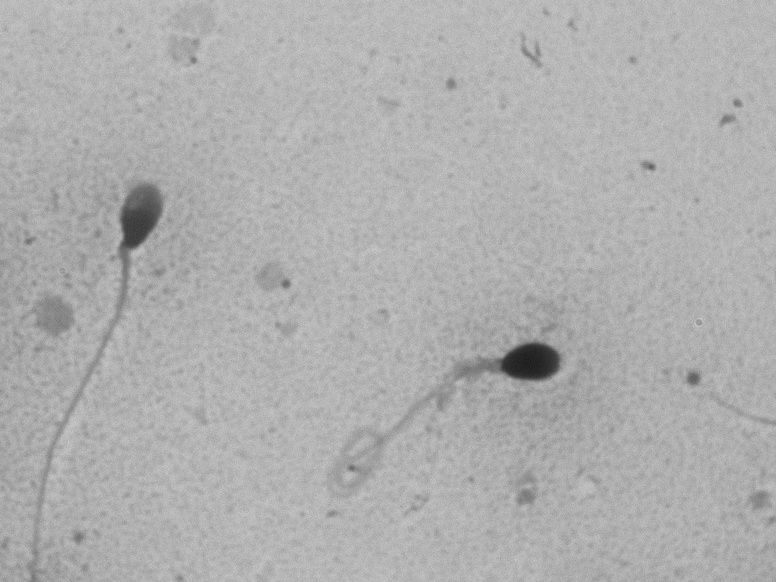Abnormal: (300, 292, 632, 525), (33, 164, 204, 493)
